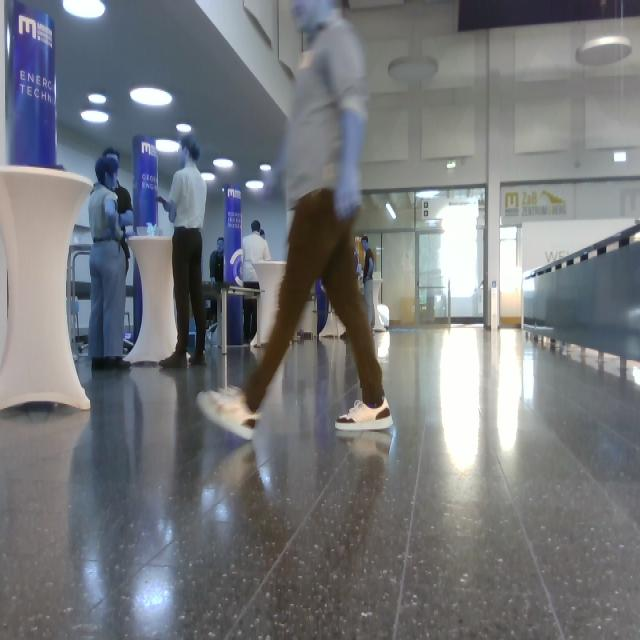door: (382, 231, 417, 327), (417, 230, 445, 324), (499, 225, 523, 326)
light bulb: (575, 1, 633, 66), (576, 35, 632, 67), (388, 56, 438, 84), (130, 86, 173, 108), (63, 1, 106, 20), (81, 110, 109, 124), (156, 138, 181, 153), (213, 158, 234, 169), (88, 93, 107, 105), (386, 202, 397, 220), (246, 180, 264, 190), (176, 124, 192, 133), (201, 172, 216, 181), (260, 164, 272, 172)
person: (196, 1, 395, 442), (155, 133, 208, 369), (88, 154, 133, 372), (242, 220, 272, 341), (361, 236, 376, 329)
pillar: (1, 164, 94, 412)
staircase: (522, 221, 640, 382)
tiled floor: (1, 323, 639, 639)
